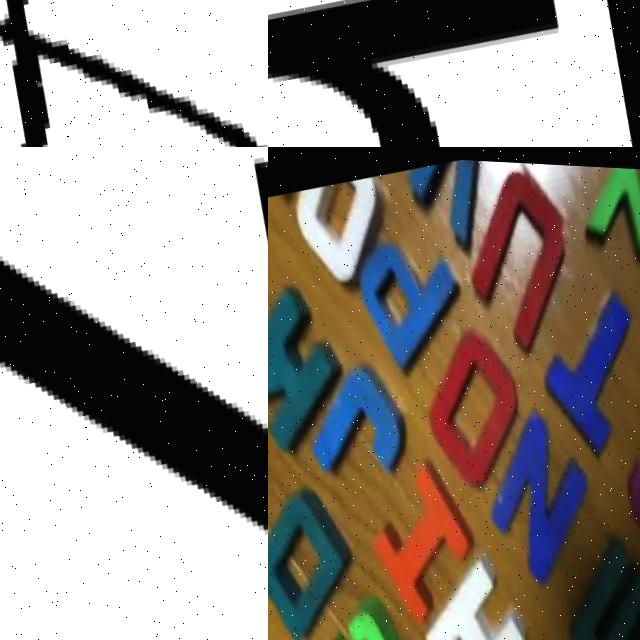7: (0, 0, 268, 147)
C: (305, 586, 426, 640)
D: (268, 475, 373, 640)
H: (413, 538, 557, 640)
I: (363, 449, 495, 620)
J: (299, 353, 429, 500)
K: (268, 272, 361, 453)
M: (559, 515, 640, 640)
N: (469, 384, 618, 571)
O: (409, 313, 541, 478)
P: (349, 219, 473, 358)
Q: (268, 0, 628, 147)
S: (608, 365, 640, 554)
T: (521, 264, 640, 456)
U: (448, 157, 600, 351)
Y: (557, 160, 640, 265)
Z: (0, 147, 268, 640)
